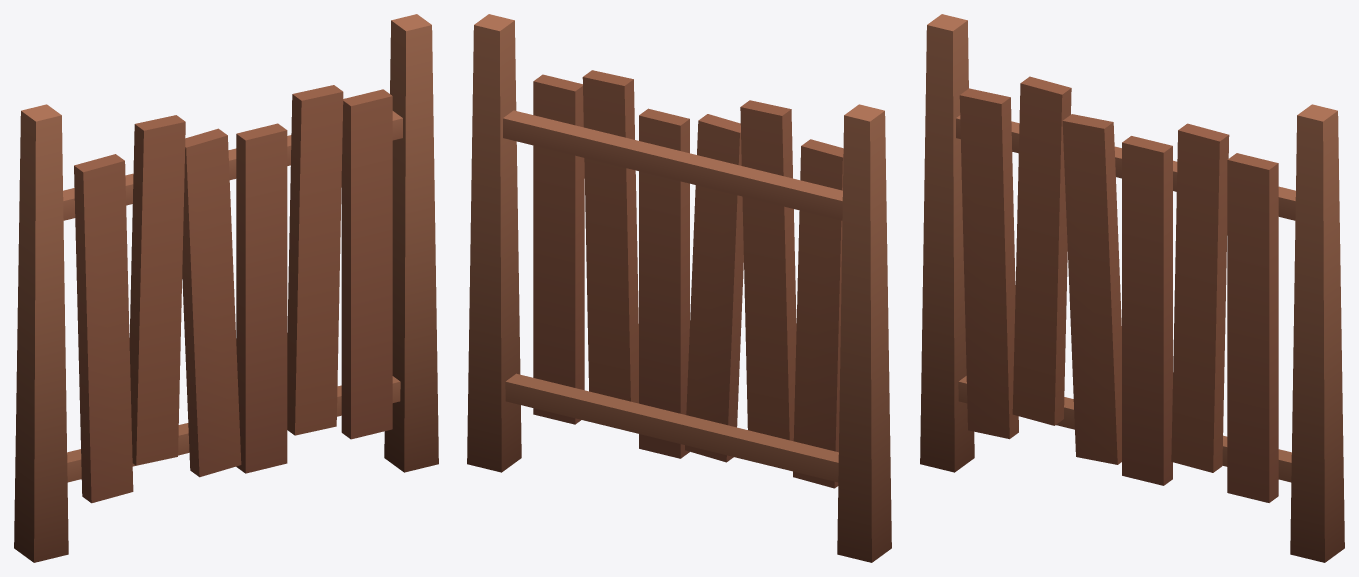
File: fence-fortified.glb
The picture shows the model from 3 angles, left to right: view 1: azimuth 30°, elevation 25°; view 2: azimuth 150°, elevation 25°; view 3: azimuth 330°, elevation 25°; orthographic projection.
Visible parts, largest first — view 1: fence-fortified; view 2: fence-fortified; view 3: fence-fortified.
Part boxes in pixels (x1,y1,x2,y2): fence-fortified: (14,14,438,562); fence-fortified: (467,14,891,562); fence-fortified: (920,14,1344,562).
Size of the model in its own units: 1.93 by 2 by 0.2048.
